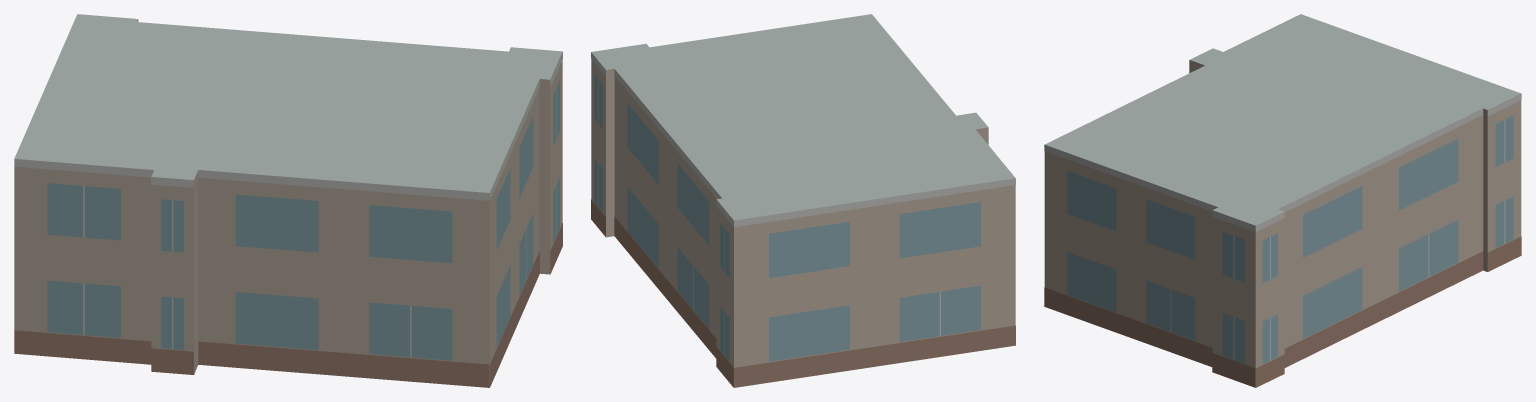
File: survey-upis-32881876.glb
3 views of the same model, side by side, from view 1: azimuth 30°, elevation 25°; view 2: azimuth 150°, elevation 25°; view 3: azimuth 270°, elevation 25° (orthographic). The views are drawn at different scales.
Visible parts, largest first — view 1: survey-upis-32881876.tmp; view 2: survey-upis-32881876.tmp; view 3: survey-upis-32881876.tmp.
Part boxes in pixels (x1=…): survey-upis-32881876.tmp: x1=14, y1=14, x2=562, y2=387; survey-upis-32881876.tmp: x1=591, y1=14, x2=1015, y2=387; survey-upis-32881876.tmp: x1=1044, y1=14, x2=1521, y2=387.
Bounding box in the file's own units: 17.1 × 6.1 × 16.27.
